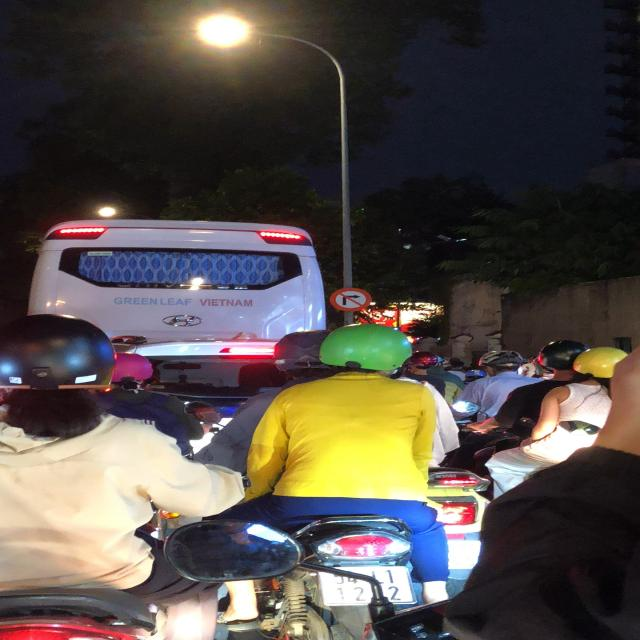Bien bao cam re phai: (325, 286, 373, 312)
